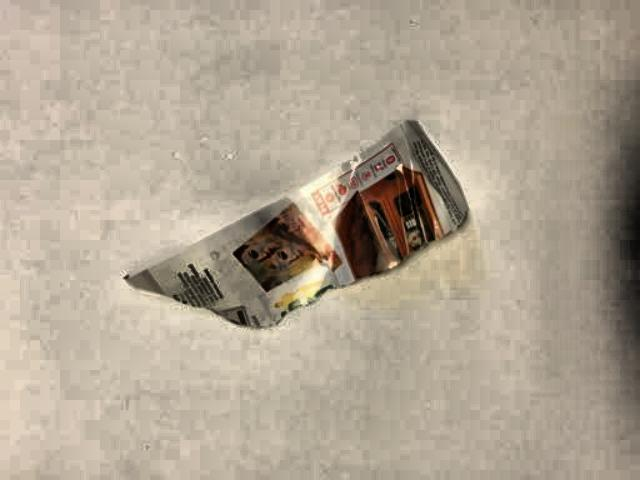Paper: (111, 122, 521, 359)
